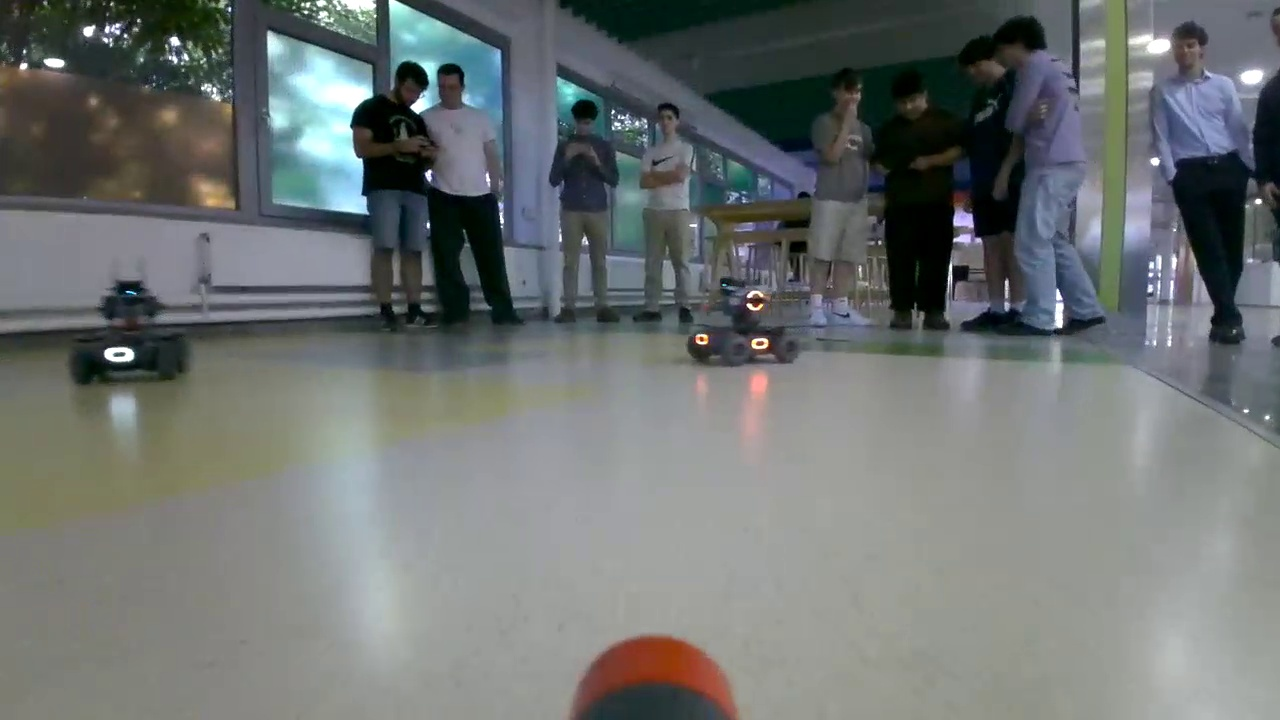robot: (72, 281, 178, 383), (687, 281, 797, 362)
